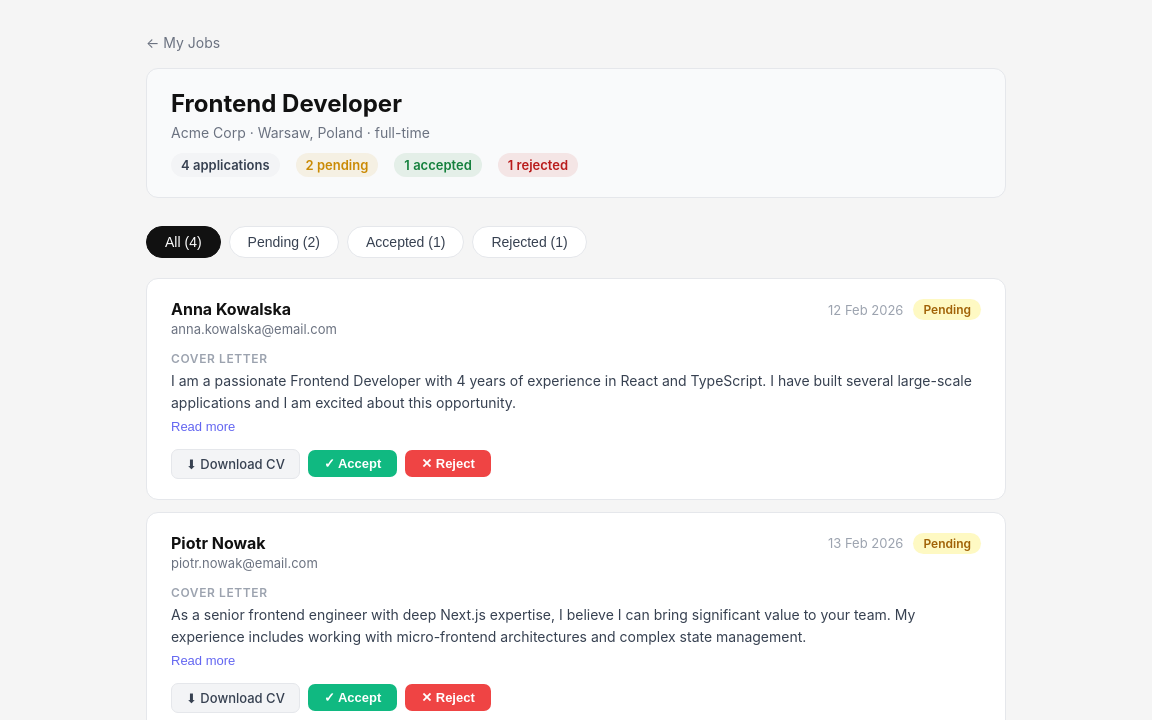
Test: JobApplicationsPage › clicking Accept shows the match modal
Expected: the text "Anna Kowalska" is shown, [171,299,291,319]
Click the button "✓ Accept" below "anna.kowalska@email.com" at (353, 464), box [308,450,397,477]
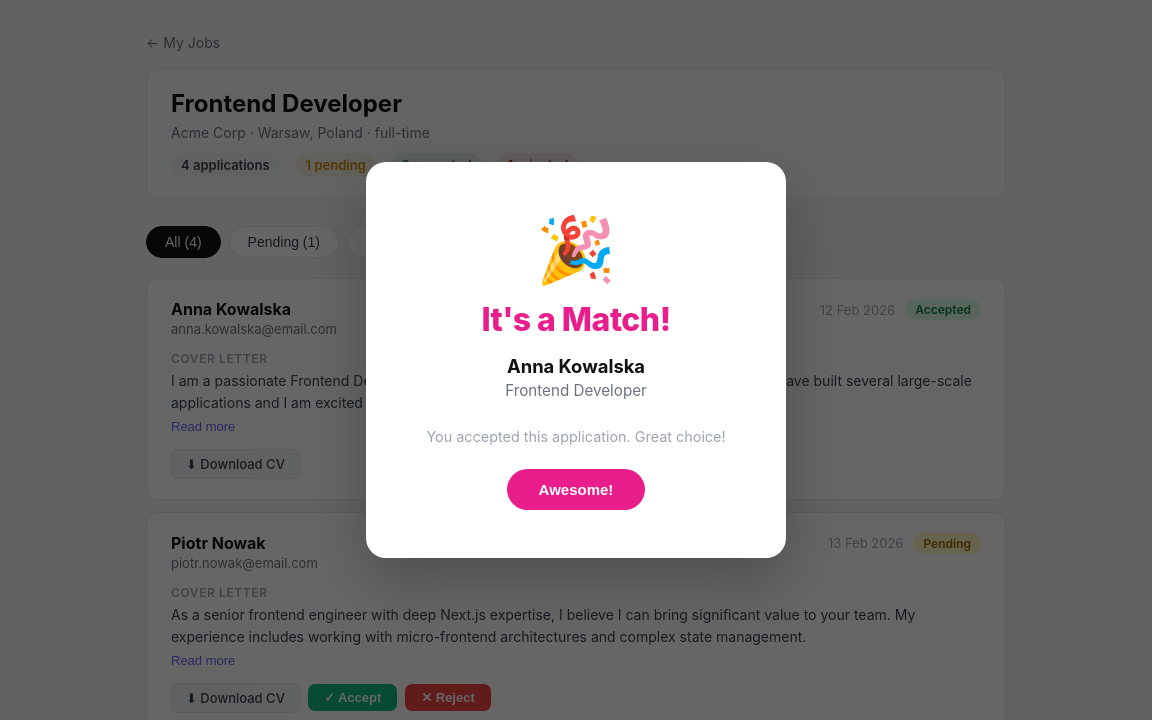
Expected: the heading "It's a Match!" is shown, [481,300,671,339]
